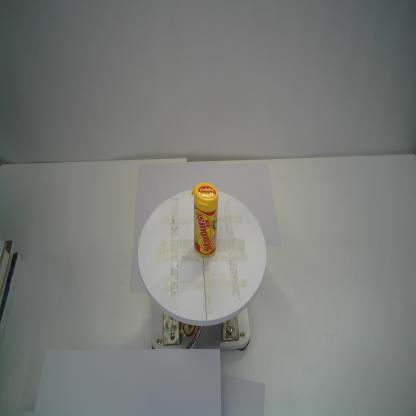Candy: (191, 181, 219, 259)
